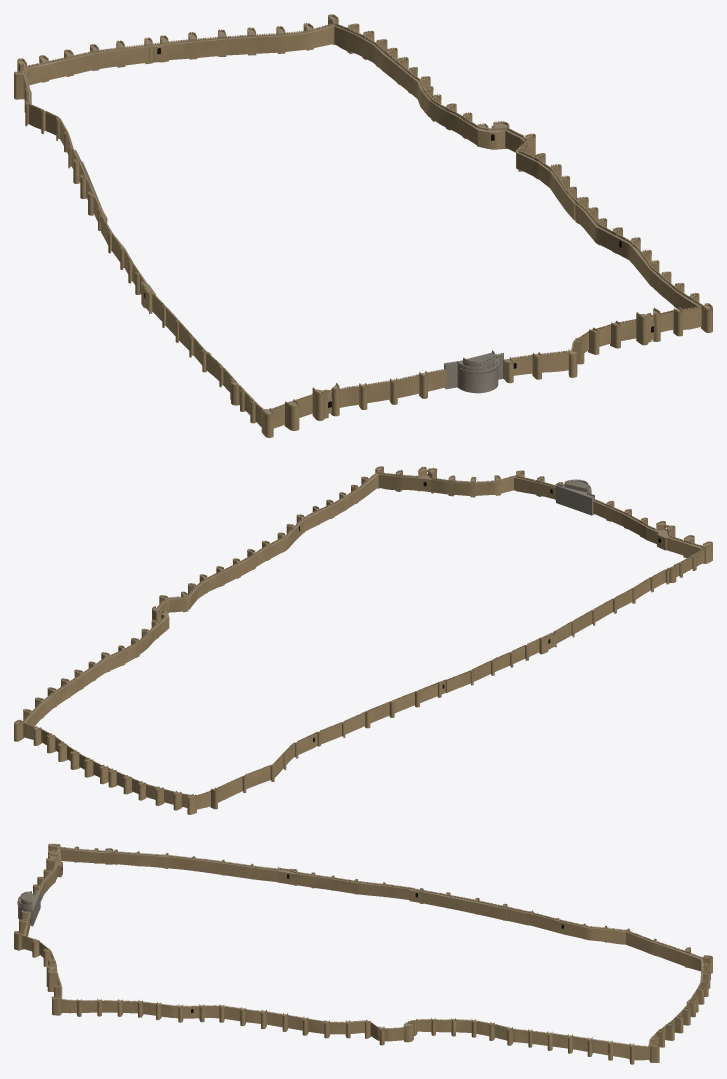
3 renders of one model, top to bottom at view 1: azimuth 30°, elevation 25°; view 2: azimuth 150°, elevation 25°; view 3: azimuth 270°, elevation 25°, orthographic. The views are drawn at different scales.
Parts seen in each view (by area): view 1: murallas_de_avila; view 2: murallas_de_avila; view 3: murallas_de_avila.
Part boxes in pixels (x1,y1,x2,y2): murallas_de_avila: (14,14,712,437); murallas_de_avila: (14,466,712,814); murallas_de_avila: (14,843,712,1064).
Bounding box in the file's own units: 549 × 97.41 × 936.
